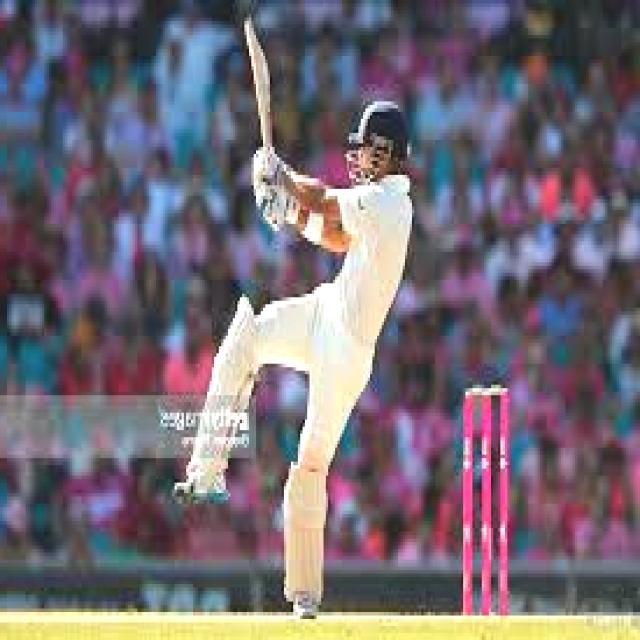toe: (233, 14, 262, 44)
